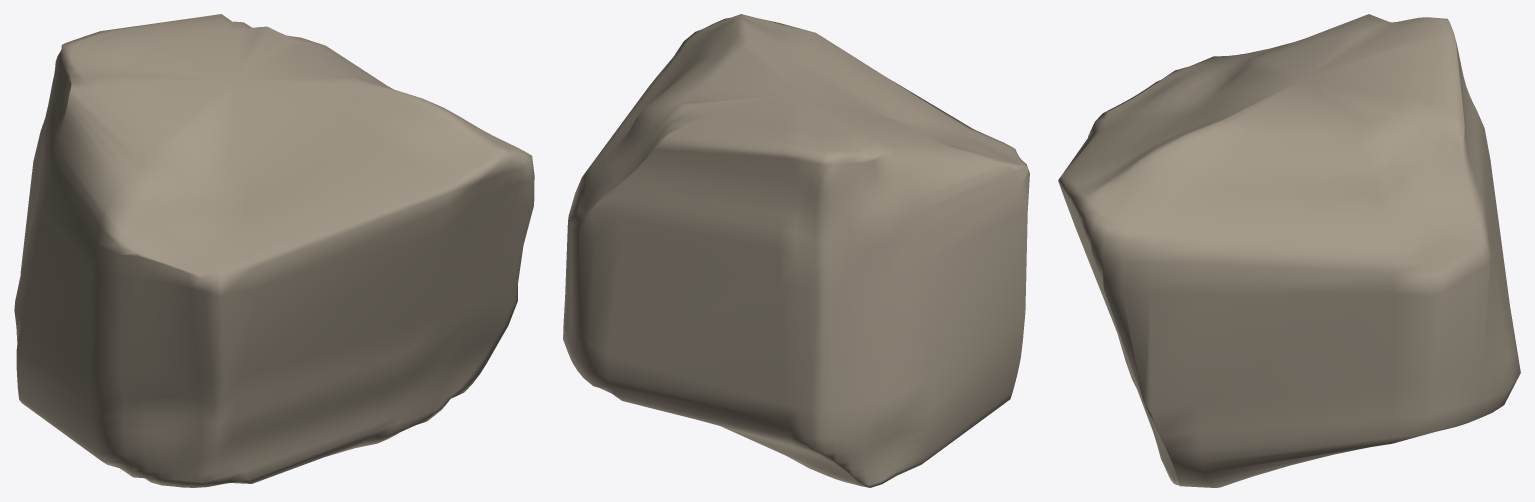
File: landscape.rock.gritstone_10.glb
3 renders of one model, left to right at view 1: azimuth 30°, elevation 25°; view 2: azimuth 150°, elevation 25°; view 3: azimuth 270°, elevation 25°, orthographic. The views are drawn at different scales.
Parts seen in each view (by area): view 1: main__stone_a98; view 2: main__stone_a98; view 3: main__stone_a98.
Part boxes in pixels (bbox=[...]): main__stone_a98: bbox=[14, 14, 534, 487]; main__stone_a98: bbox=[563, 14, 1029, 487]; main__stone_a98: bbox=[1058, 14, 1520, 487].
Bounding box in the file's own units: 1.01 × 0.8441 × 0.9754.
